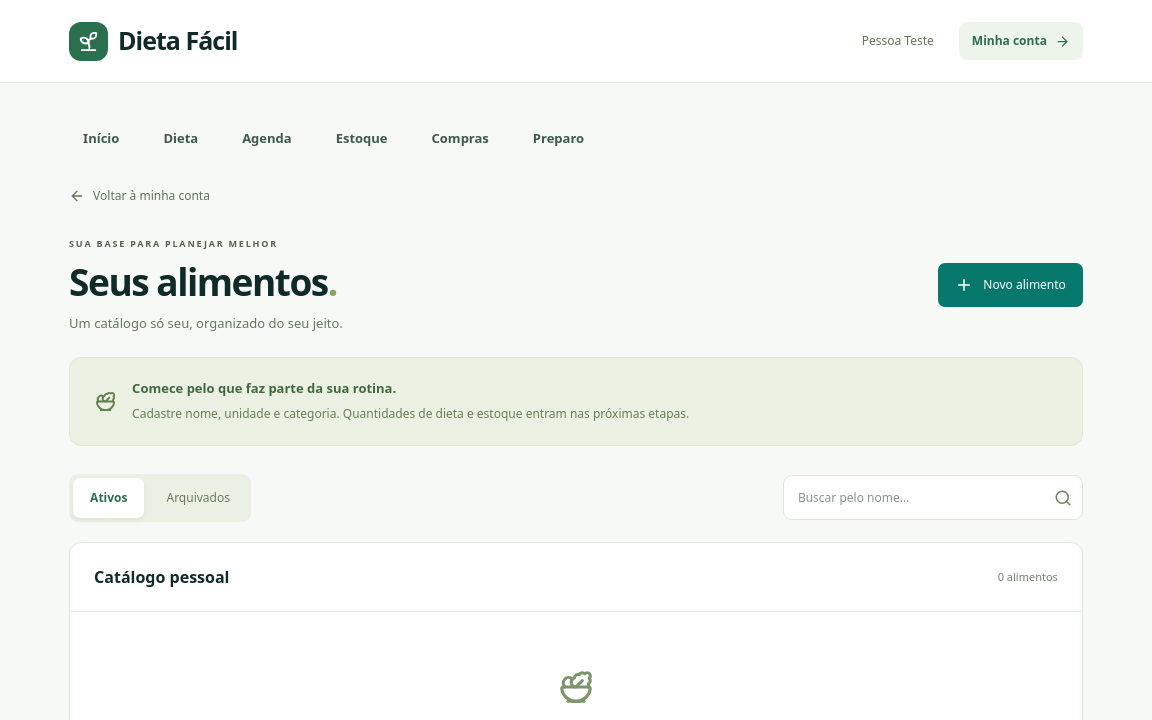
Test: retira o editor e pede novo login se a sessão expirar durante o cadastro
Step 1. Click the button "Novo alimento" → (1011,285), box [938,263,1083,307]
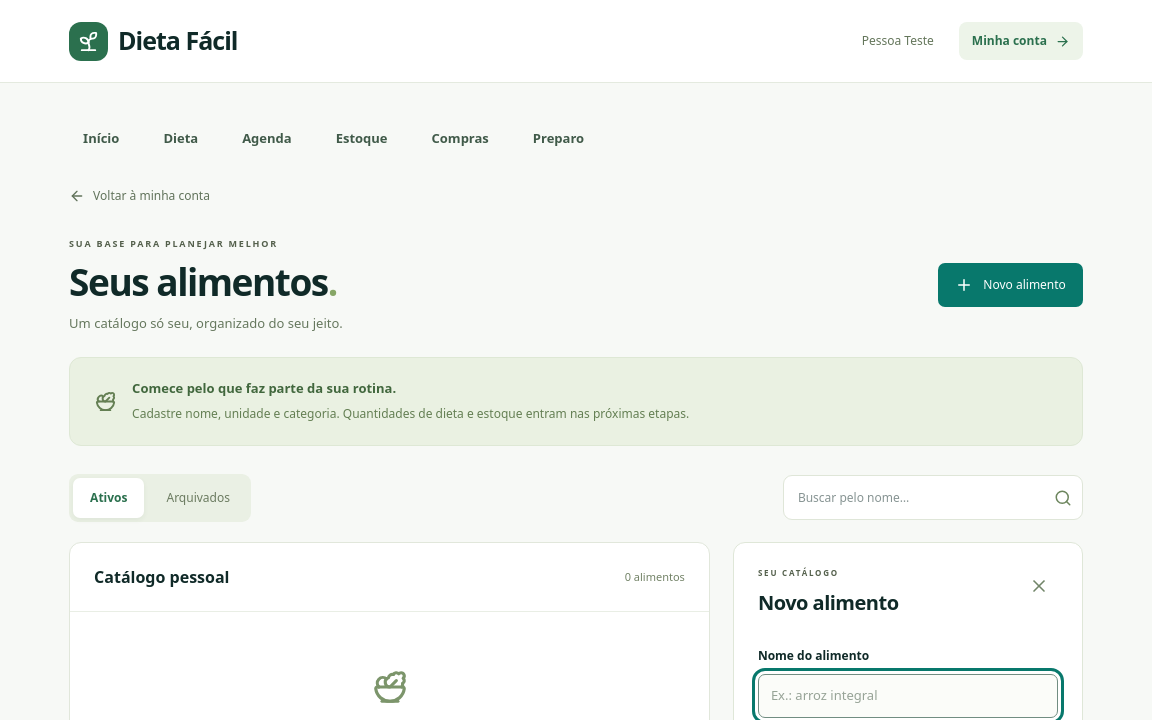
Step 2. Type "Teste" into the field labelled "Nome do alimento" → (908,696), box [758,674,1058,718]
(page scrolled)
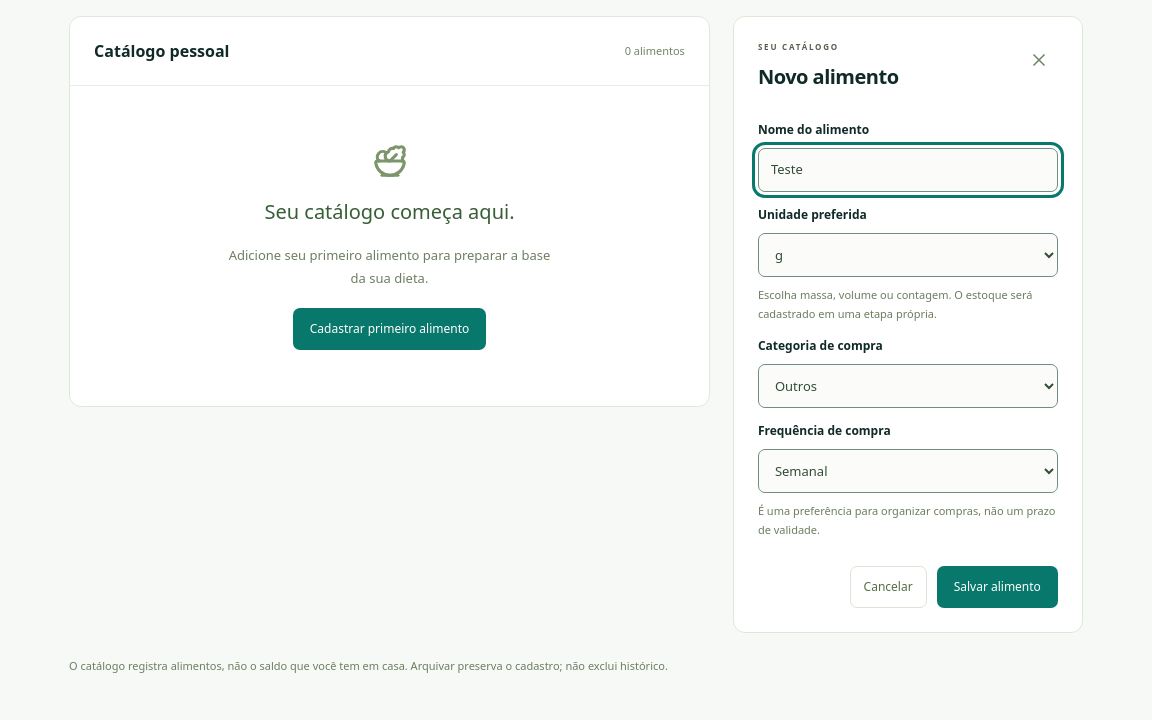
Step 3. Click the button "Salvar alimento" → (997,587), box [937,566,1058,608]
(page scrolled)
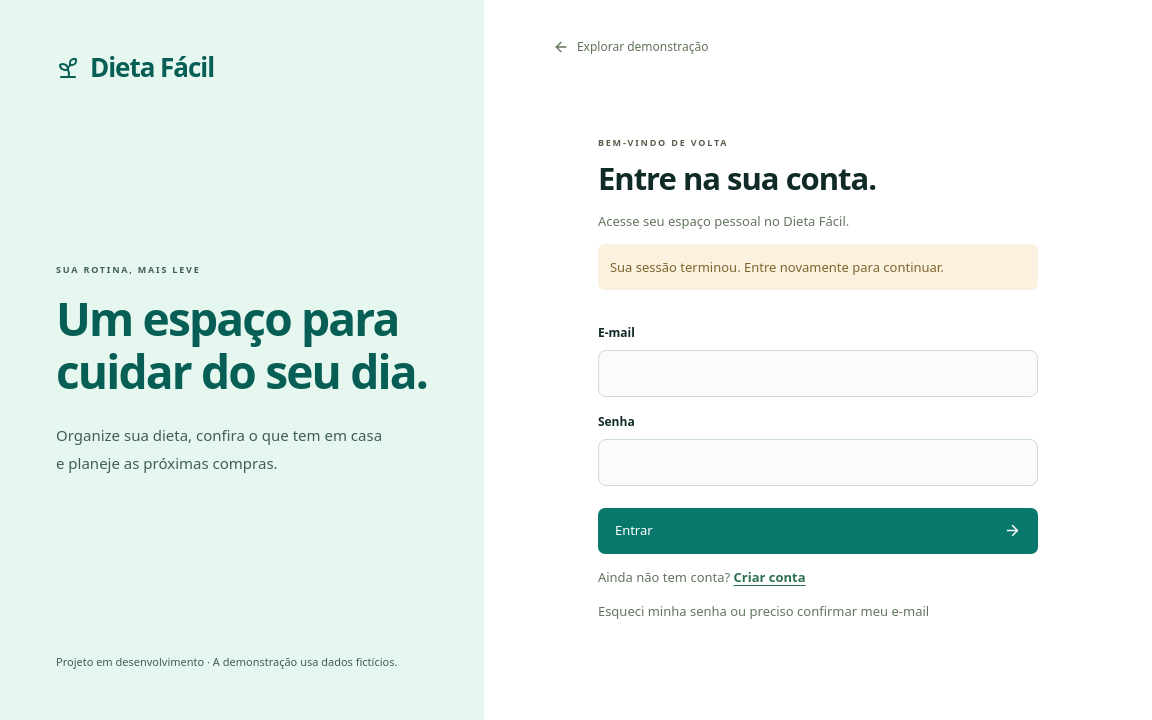
Check: the text "Sua sessão terminou. Entre novamente para continuar." is shown, box [598,244,1038,290]
Check: the label labelled "Nome do alimento" is gone
